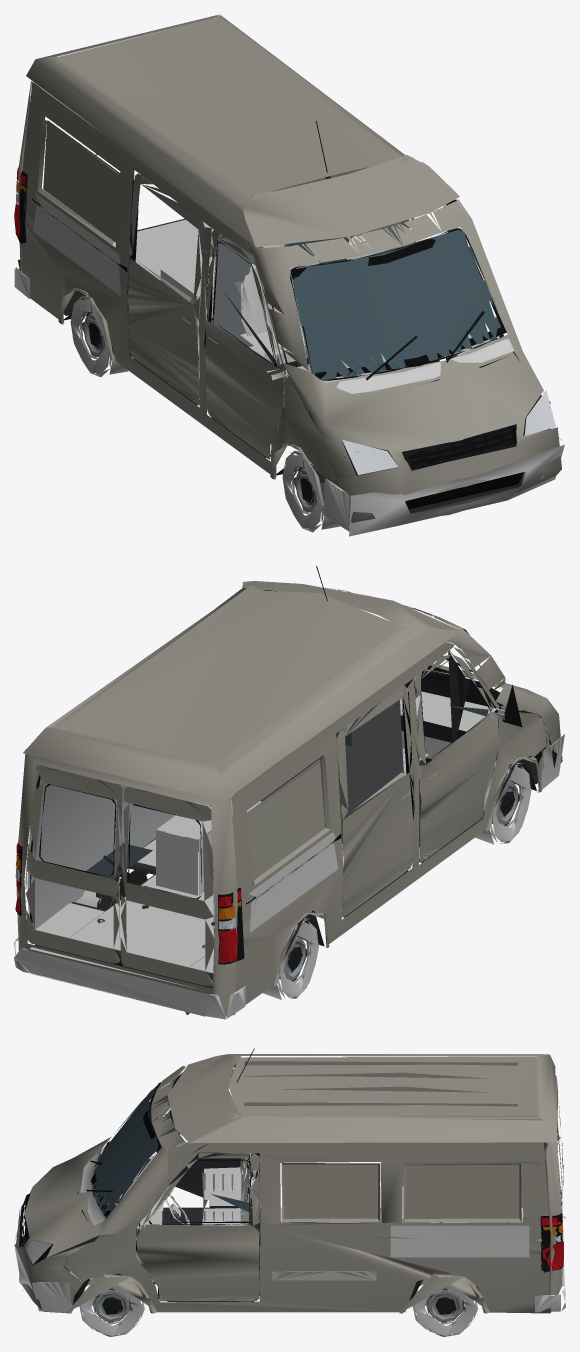
The model's file is van.glb.
3 renders of one model, top to bottom at view 1: azimuth 30°, elevation 25°; view 2: azimuth 150°, elevation 25°; view 3: azimuth 270°, elevation 25°, orthographic. The views are drawn at different scales.
Parts seen in each view (by area): view 1: Panel_Van, Sliding_Door, Door_R, Wheel_Rear_R, Wheel_Front_R; view 2: Panel_Van, Door_R, Sliding_Door, Rear_Door_L, Rear_Door_R, Wheel_Front_R, Wheel_Rear_R; view 3: Panel_Van, Door_L, Wheel_Front_L, Wheel_Rear_L, Door_R.
Part boxes in pixels (x1,y1,x2,y2): Panel_Van: (14, 14, 564, 536); Sliding_Door: (127, 173, 204, 405); Door_R: (204, 230, 285, 459); Wheel_Rear_R: (70, 295, 132, 377); Wheel_Front_R: (282, 450, 340, 532); Panel_Van: (14, 566, 564, 1019); Door_R: (414, 650, 522, 862); Sliding_Door: (336, 685, 414, 917); Rear_Door_L: (25, 765, 122, 963); Rear_Door_R: (120, 786, 214, 986); Wheel_Front_R: (475, 761, 531, 844); Wheel_Rear_R: (263, 918, 318, 999); Panel_Van: (14, 1048, 565, 1313); Door_L: (137, 1153, 259, 1301); Wheel_Front_L: (78, 1277, 145, 1336); Wheel_Rear_L: (411, 1278, 479, 1336); Door_R: (156, 1106, 258, 1206).
Bounding box in the file's own units: 2.51 × 2.84 × 5.66.
